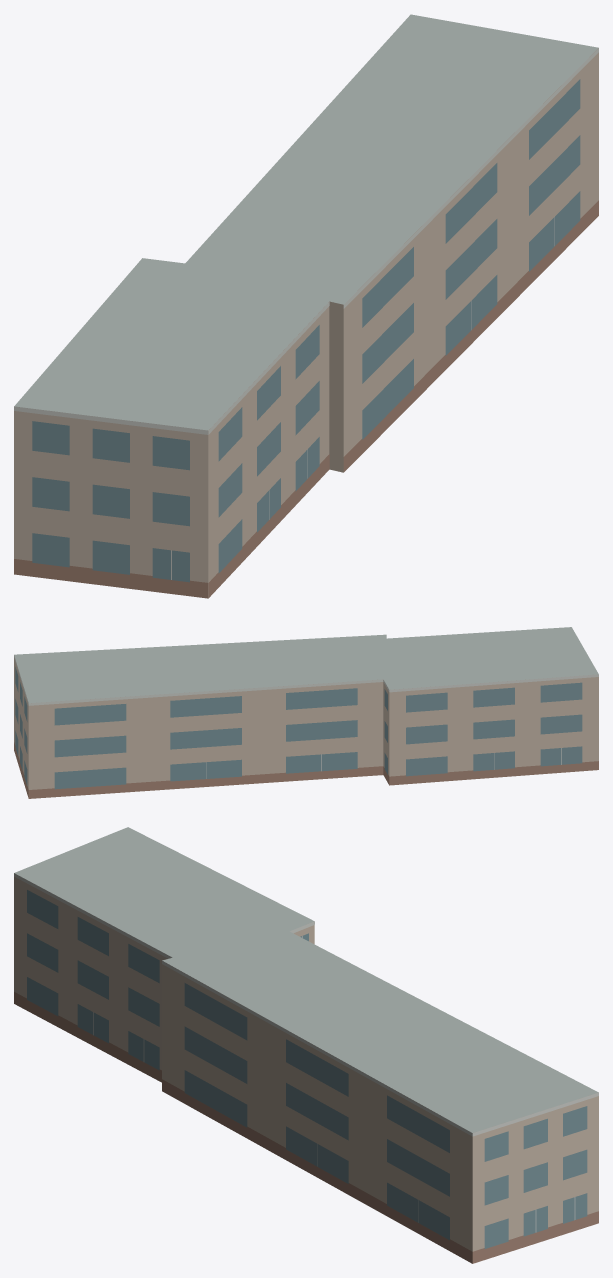
File: survey-upis-32690745.glb
3 renders of one model, top to bottom at view 1: azimuth 30°, elevation 25°; view 2: azimuth 150°, elevation 25°; view 3: azimuth 270°, elevation 25°, orthographic. The views are drawn at different scales.
Parts seen in each view (by area): view 1: survey-upis-32690745.tmp; view 2: survey-upis-32690745.tmp; view 3: survey-upis-32690745.tmp.
Part boxes in pixels (x1,y1,x2,y2): survey-upis-32690745.tmp: (14, 14, 598, 598); survey-upis-32690745.tmp: (14, 627, 598, 798); survey-upis-32690745.tmp: (14, 827, 598, 1263).
Size of the model in its own units: 45.95 by 9.15 by 37.1.
